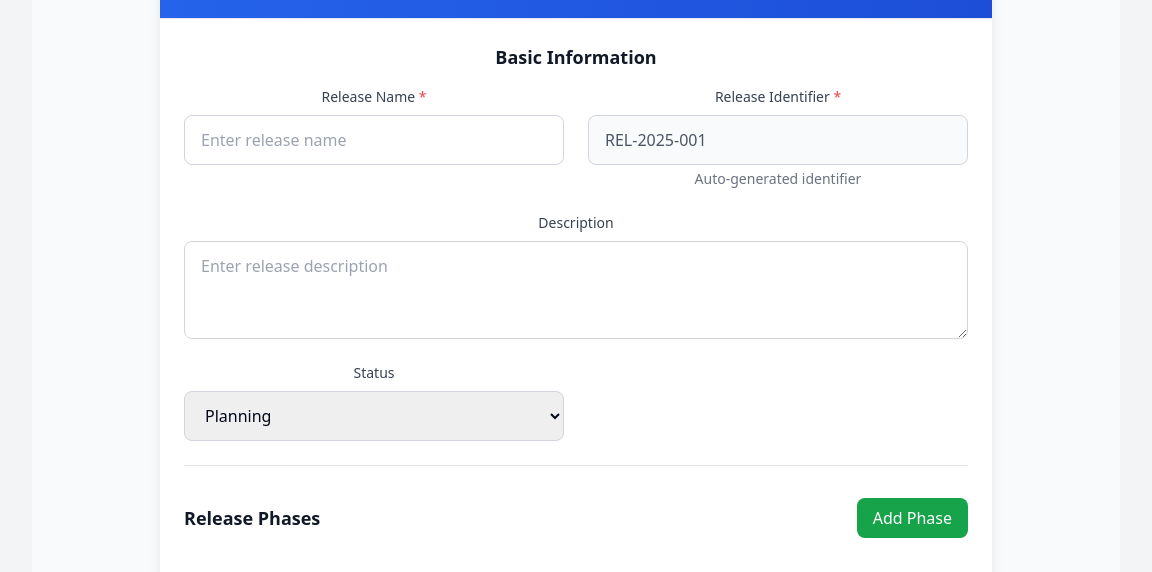
Scenario: ReleaseForm › Form Validation › should show error for duplicate phase types
// Add first phase
Step 1. Click the button "Add Phase" → x=912, y=518, box 857,498 -> 968,538
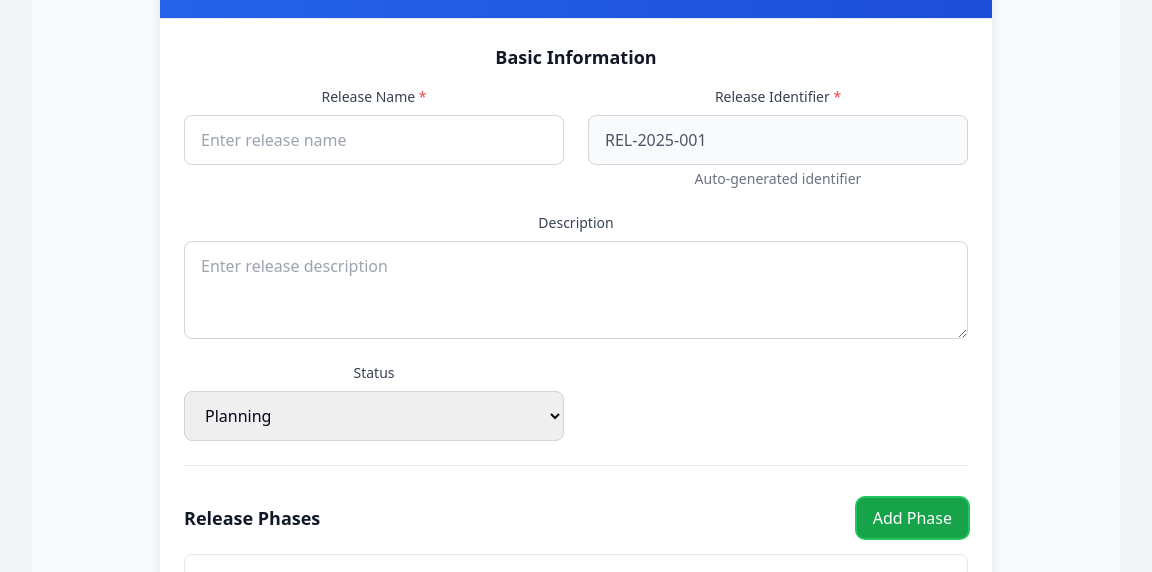
// Add second phase - it will auto-select the next available type
Step 2. Click the button "Add Phase" → x=912, y=518, box 857,498 -> 968,538
(page scrolled)
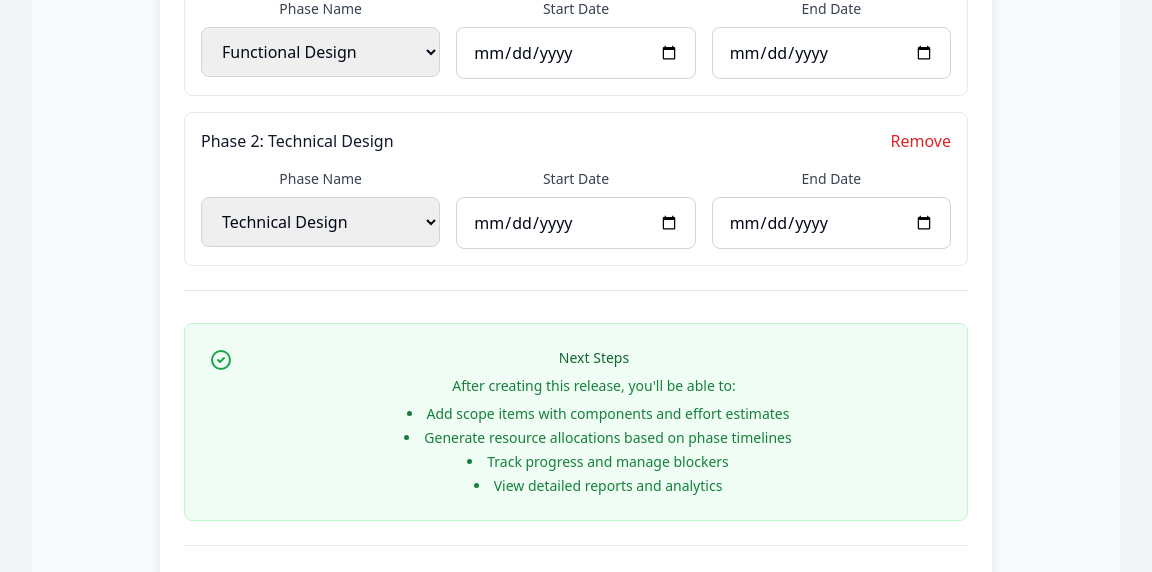
Expected: the heading "Phase 2: Technical Design" is shown, 201,129 -> 394,153
// Set the second phase to the same value as the first to create duplicate
Step 3. Select "Functional Design" in the dropdown below "Technical Design" → x=321, y=222, box 201,197 -> 440,247
(page scrolled)
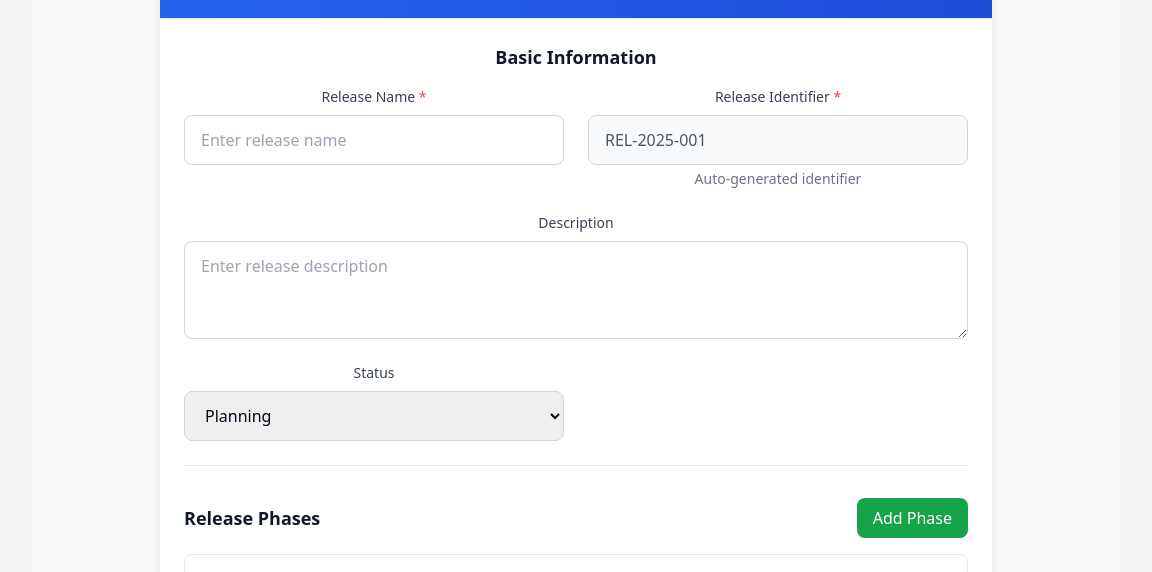
Step 4. Type "Test Release" into the field labelled "Release Name *" → x=374, y=140, box 184,115 -> 564,165
(page scrolled)
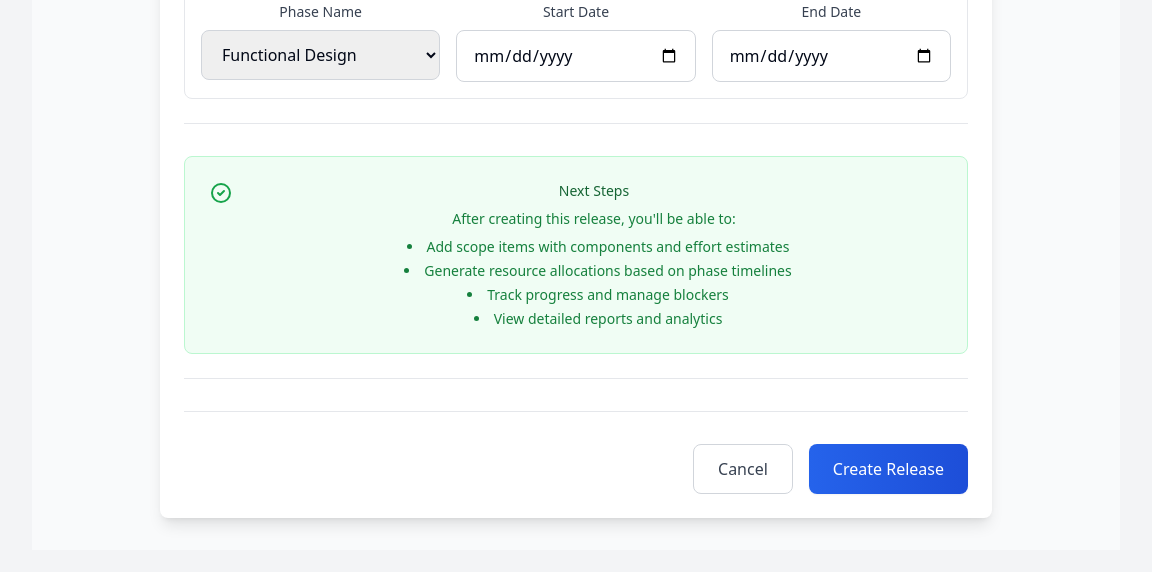
Step 5. Click the button "Create Release" → x=888, y=469, box 809,444 -> 968,494
(page scrolled)
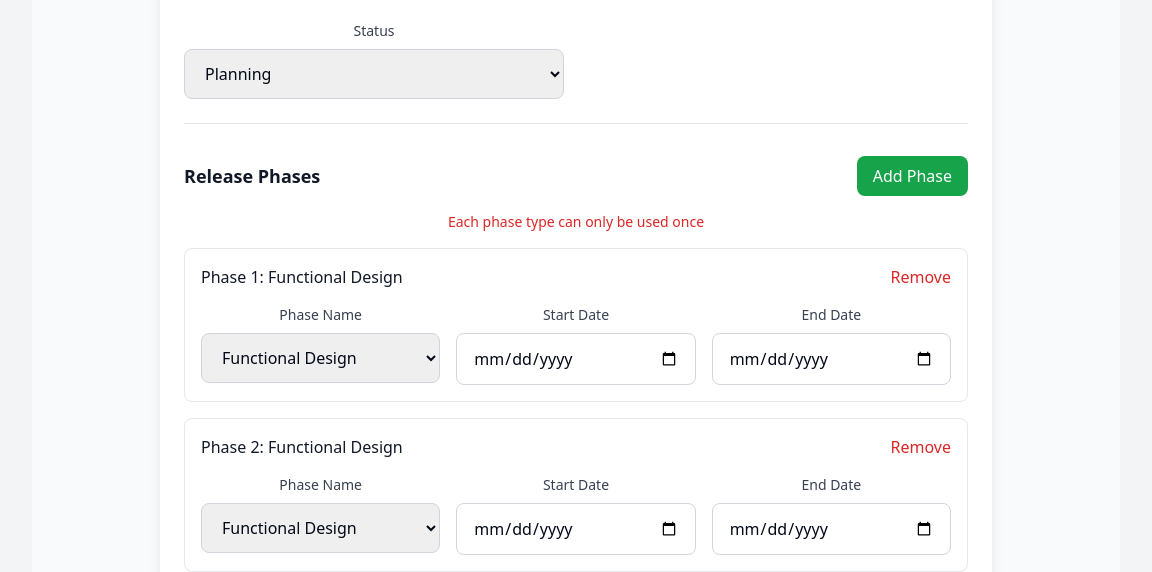
Expected: the text "Each phase type can only be used once" is shown, 448,212 -> 704,231
